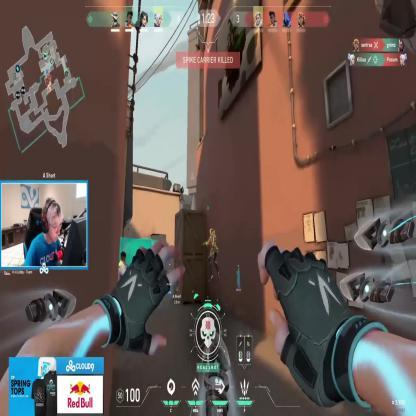enemy: (203, 226, 219, 283)
enemy_head: (209, 228, 214, 236)
